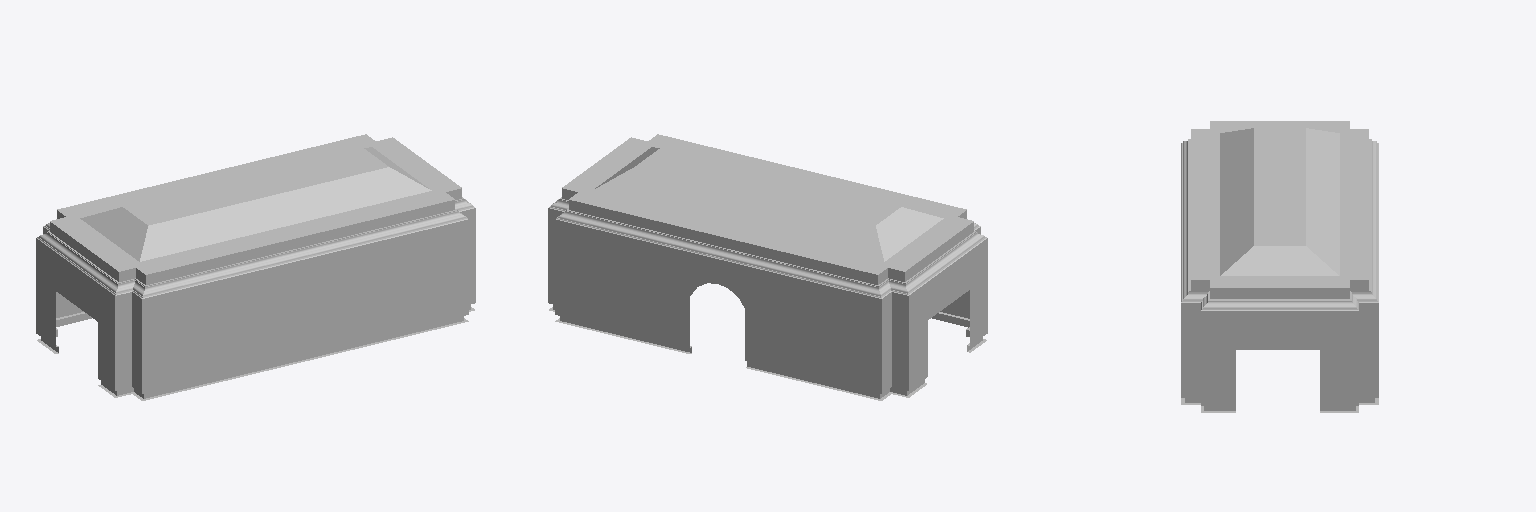
The model's file is MainHall.obj.
3 views of the same model, side by side, from view 1: azimuth 30°, elevation 25°; view 2: azimuth 150°, elevation 25°; view 3: azimuth 270°, elevation 25° (orthographic).
Parts seen in each view (by area): view 1: MainHall_Cube.016; view 2: MainHall_Cube.016; view 3: MainHall_Cube.016.
Part boxes in pixels (x1,y1,x2,y2): MainHall_Cube.016: (36,134,475,400); MainHall_Cube.016: (548,134,987,400); MainHall_Cube.016: (1181,121,1378,412).
Size of the model in its own units: 8.62 by 3.16 by 4.11.